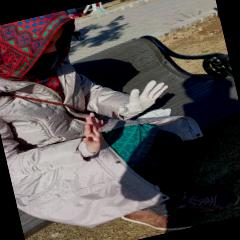gloved: (118, 77, 172, 117)
not-gloved: (74, 109, 110, 156)
